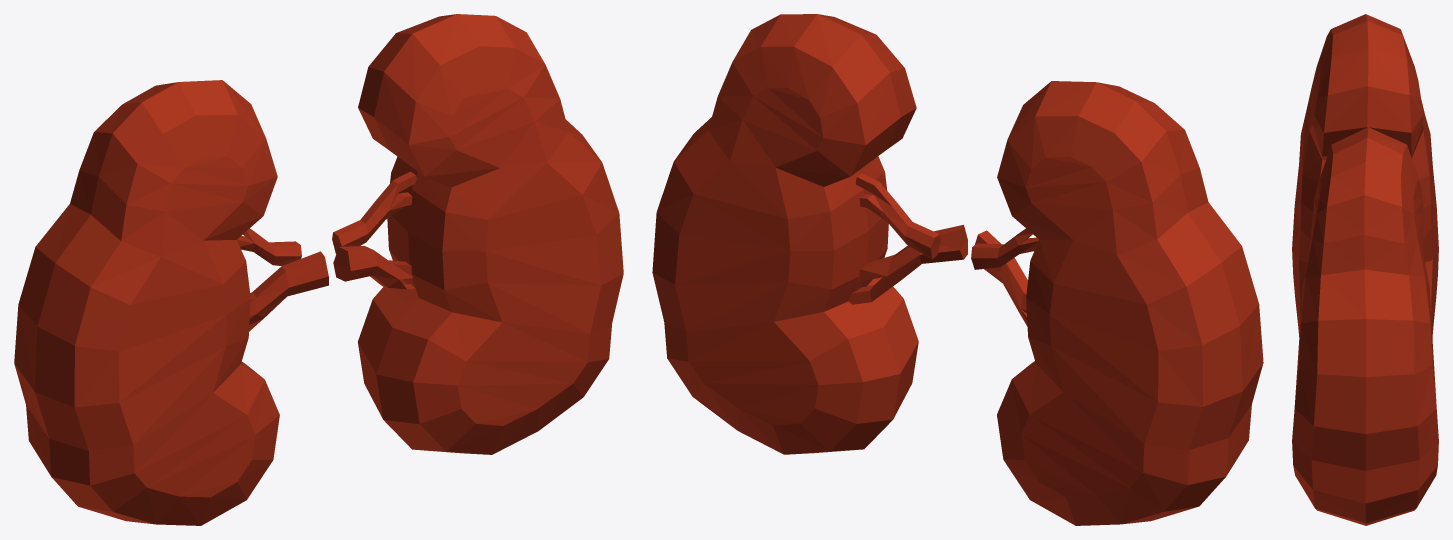
The model's file is 1411 Kidney.obj.
3 renders of one model, left to right at view 1: azimuth 30°, elevation 25°; view 2: azimuth 150°, elevation 25°; view 3: azimuth 270°, elevation 25°, orthographic. The views are drawn at different scales.
Visible parts, largest first — view 1: Kidney; view 2: Kidney; view 3: Kidney.
Part boxes in pixels (x1=…): Kidney: x1=14, y1=14, x2=623, y2=525; Kidney: x1=652, y1=14, x2=1263, y2=525; Kidney: x1=1292, y1=14, x2=1438, y2=525.
Bounding box in the file's own units: 70.18 × 51.91 × 18.29.
1 material, 1 textured.
